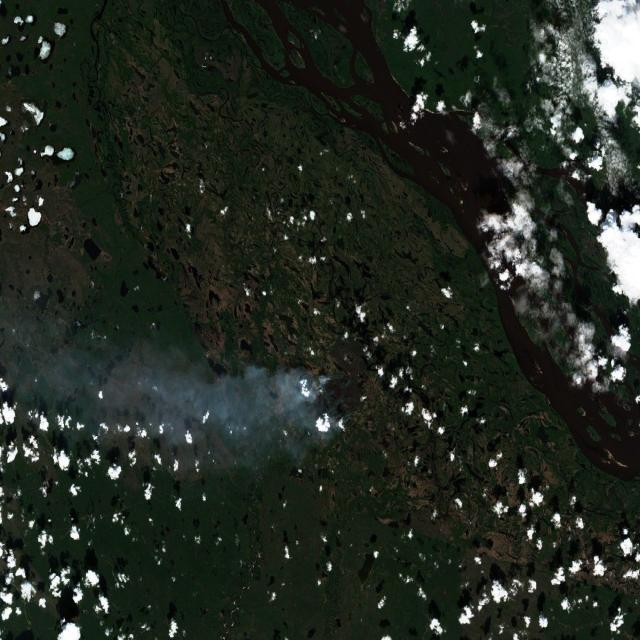fire: (312, 368, 360, 437)
